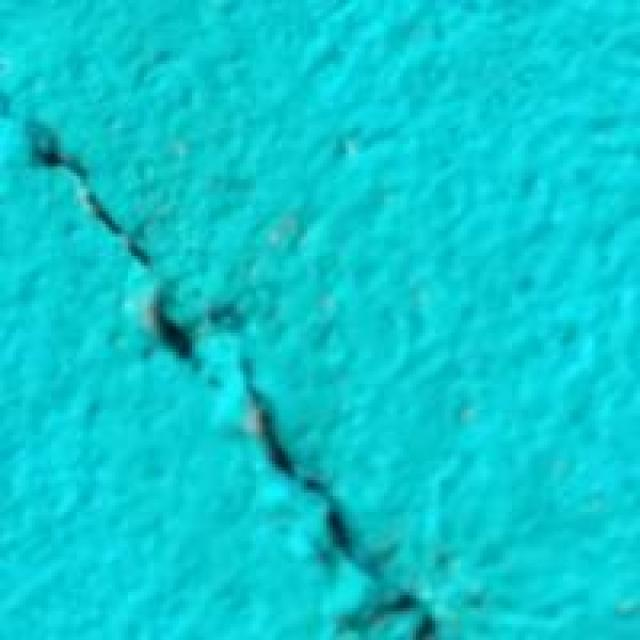Crack: (2, 80, 459, 634)
